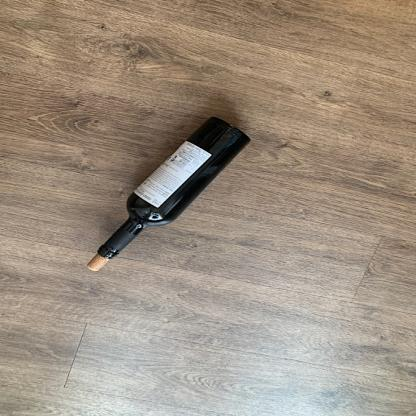trash: (95, 117, 251, 262)
